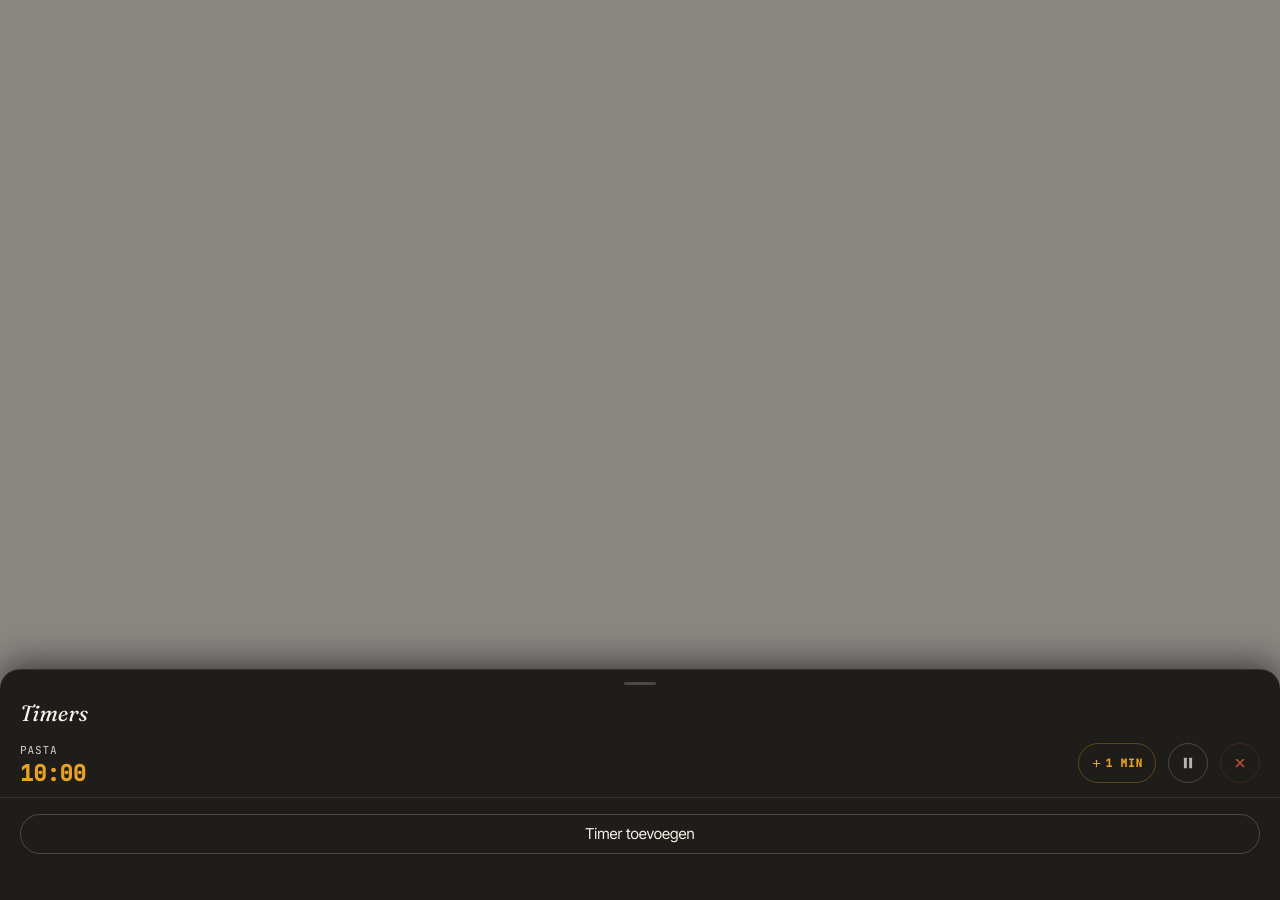
Test: TimerSheet › paused timer › shows the pause button again after resuming
Click the button named "Timer pauzeren" at point(1188, 763), box [1168,743,1208,783]
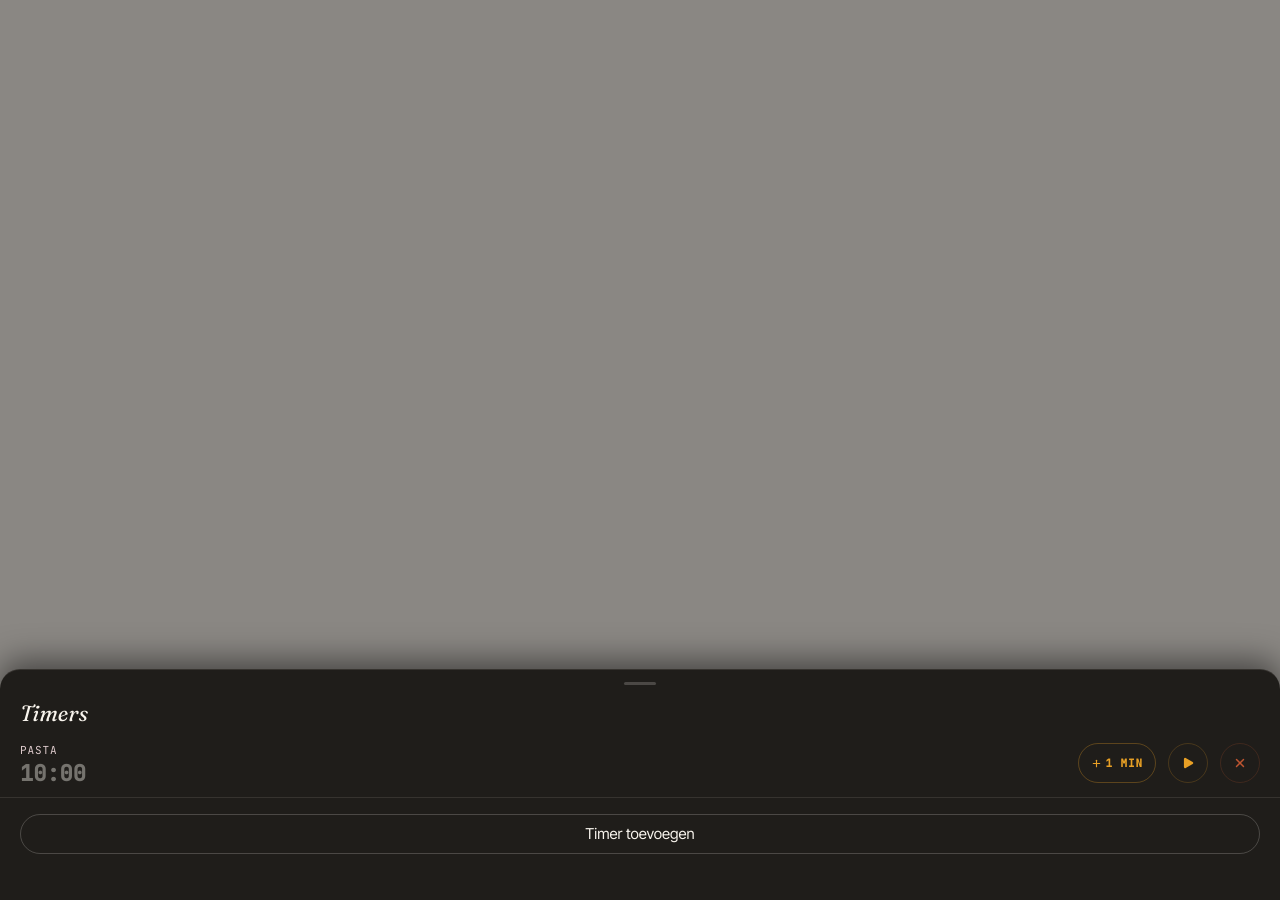
Click the button named "Timer hervatten" at point(1188, 763), box [1168,743,1208,783]
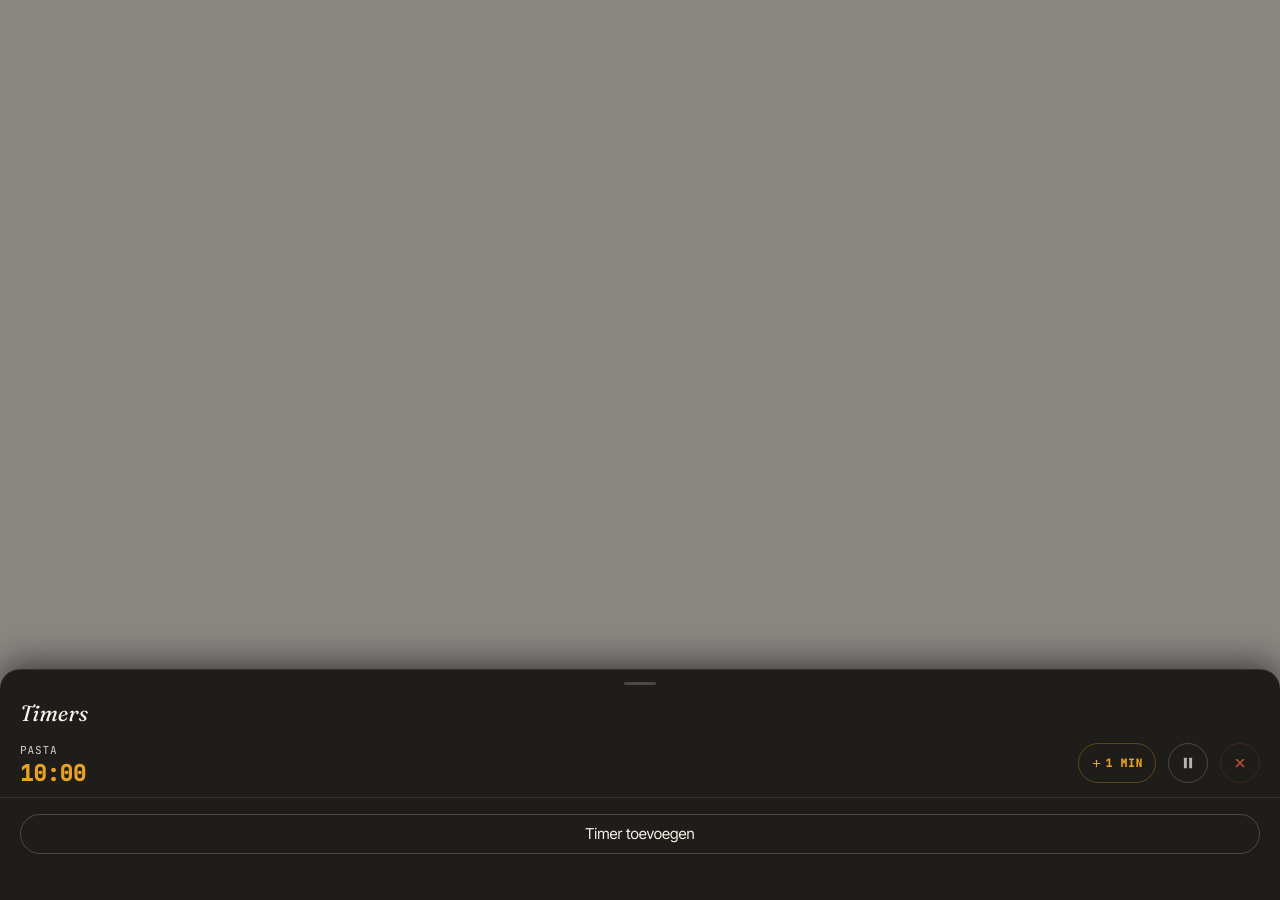
Now the button named "Timer pauzeren" is shown, box [1168,743,1208,783]
